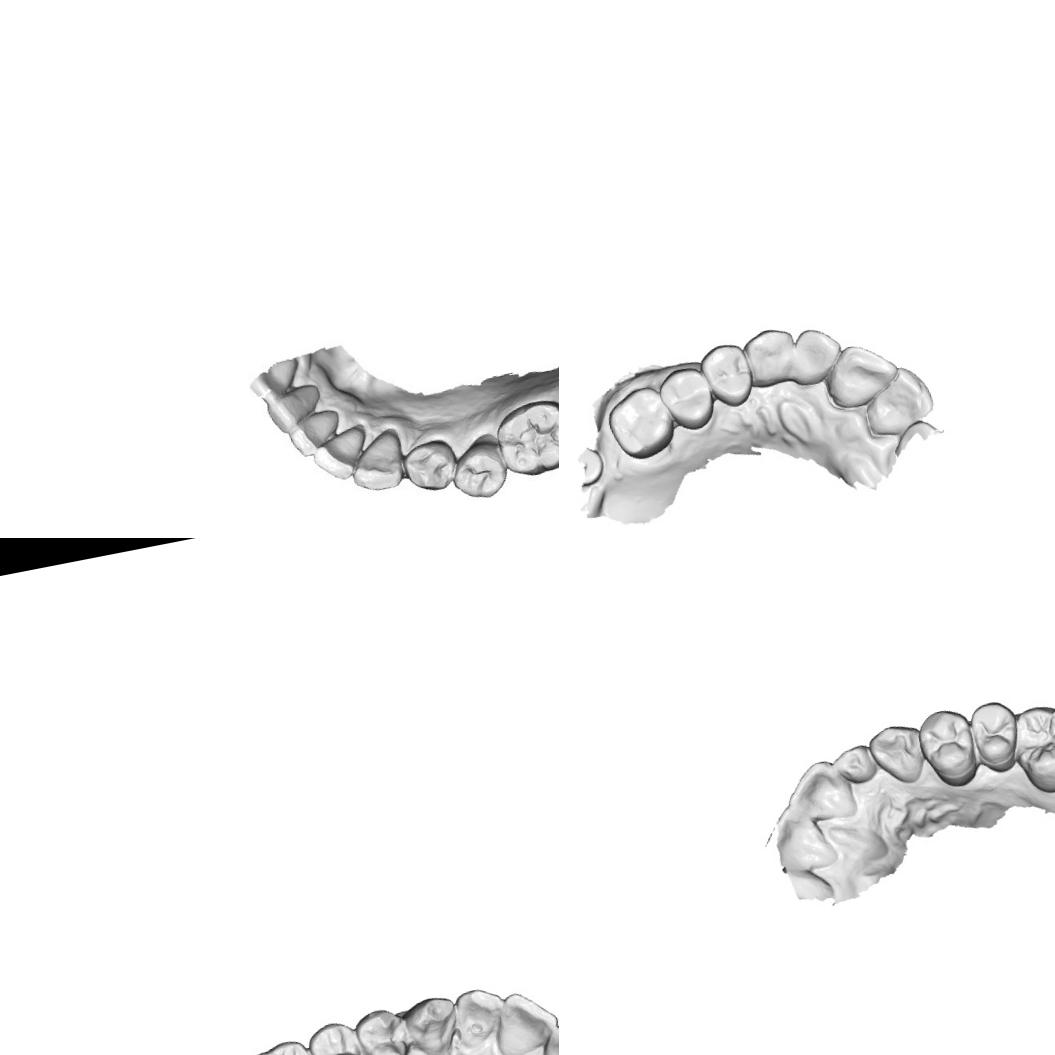canine: (863, 716, 928, 791), (344, 427, 408, 496), (400, 990, 466, 1055), (739, 324, 802, 390)
incisor: (820, 336, 905, 413), (856, 360, 938, 439), (780, 752, 859, 830), (762, 804, 841, 877), (486, 983, 559, 1055), (449, 982, 512, 1052), (783, 322, 847, 388), (307, 422, 374, 484), (262, 381, 327, 436), (284, 407, 345, 460), (828, 741, 874, 790), (527, 1017, 559, 1055)
molar: (600, 380, 684, 465), (489, 392, 559, 481), (1006, 693, 1055, 799), (235, 1033, 325, 1055)
premolar: (912, 702, 986, 794), (962, 694, 1026, 778), (654, 362, 720, 435), (444, 434, 512, 504), (696, 339, 757, 412), (398, 432, 464, 498), (351, 1003, 414, 1055), (303, 1016, 369, 1055)
